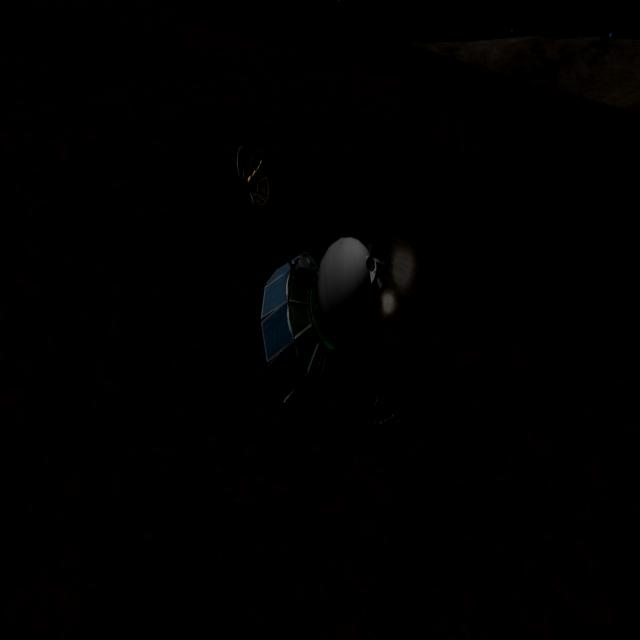satellite: (223, 118, 457, 512)
